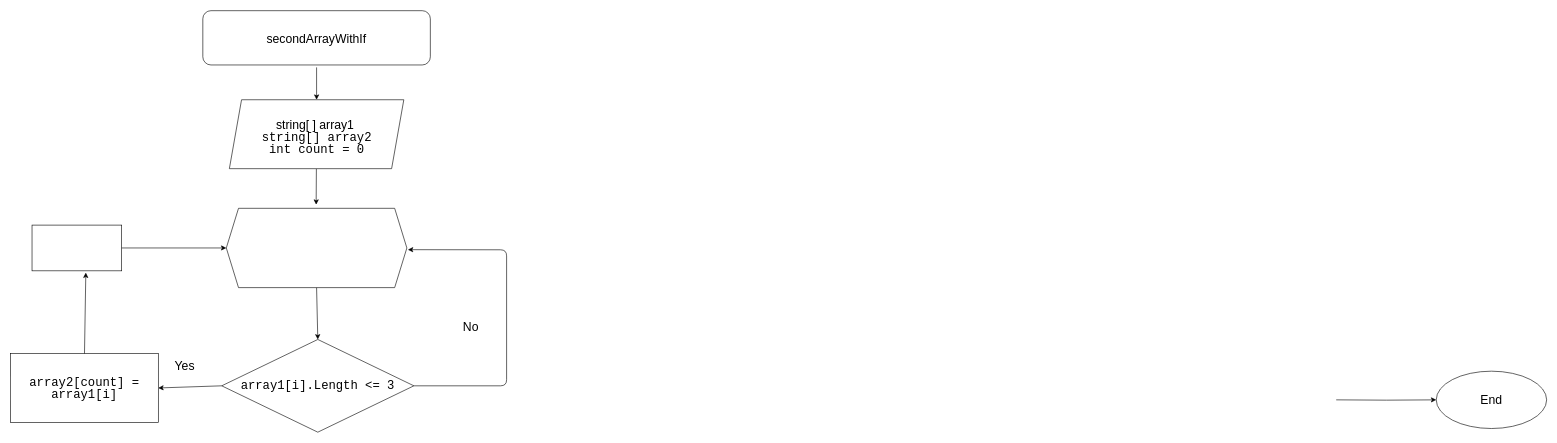
Some shapes in this 1557 by 443 pixel diagram are drawn without their labels. Each missing label, with the centre of its shape:
count ++: [76,247]
for (int i = 0; i < array1.Length; i++): [316,248]
